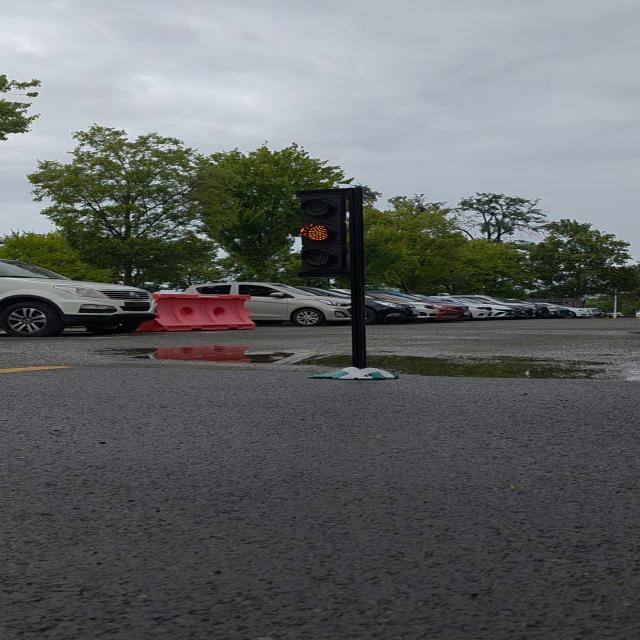yellow: (295, 188, 372, 282)
